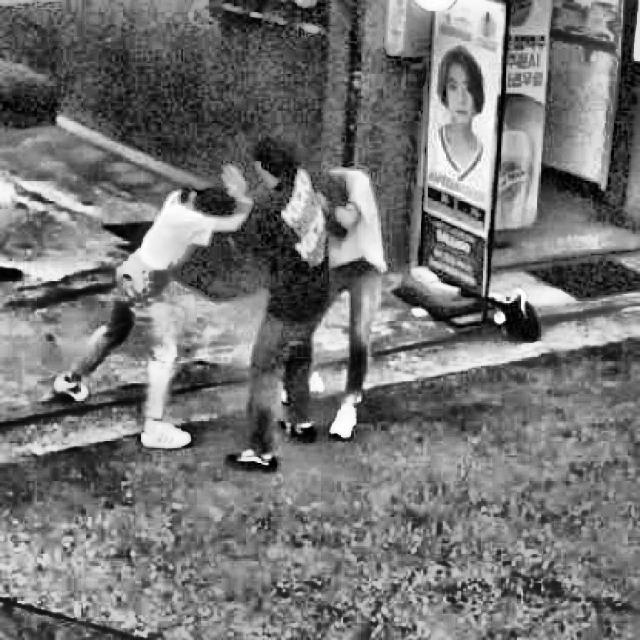robbery: (42, 136, 409, 481)
